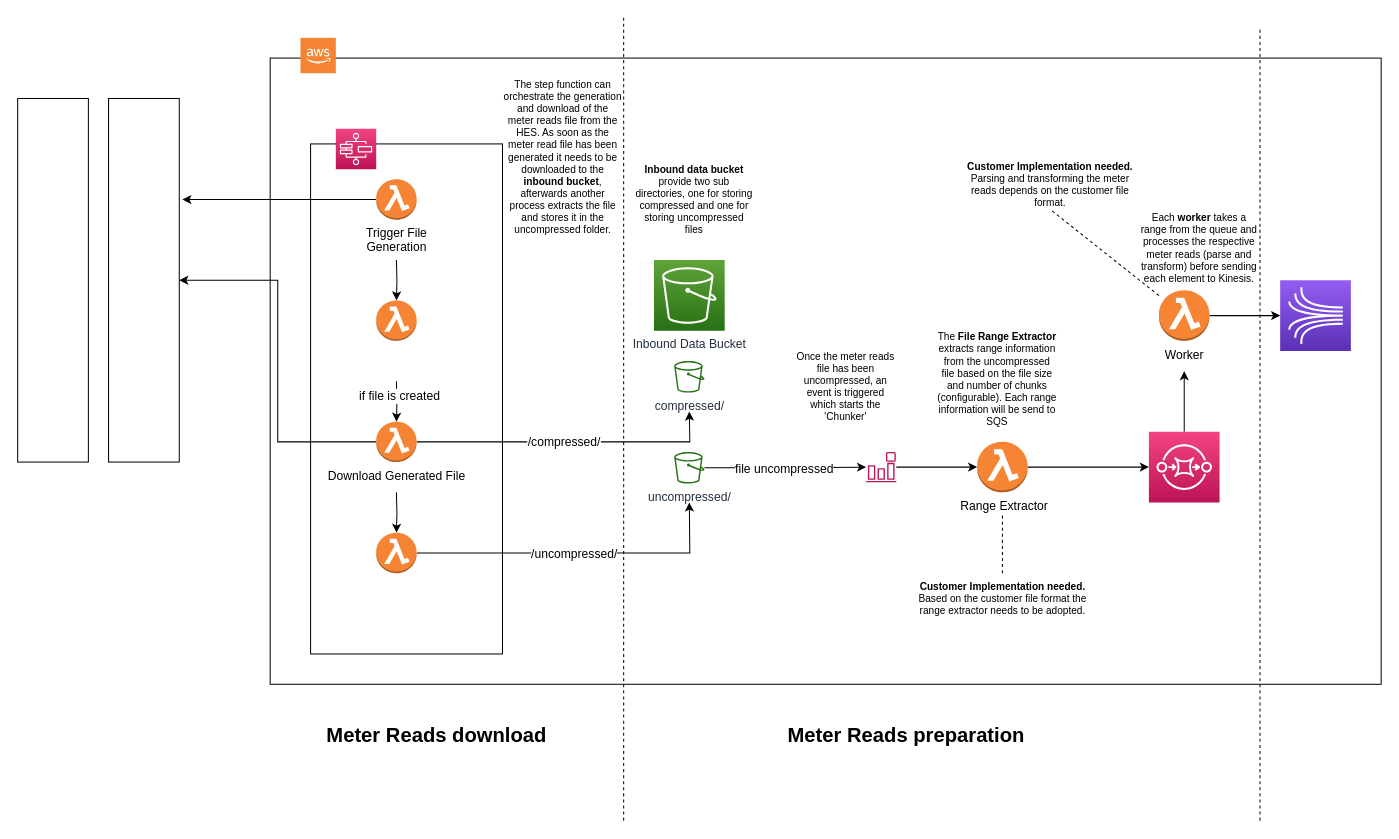
Image size: 1399x839. Some labels were removed from this diagram. Each missing label, with the centre of its shape:
"Check File Generation Status" goes at point (396, 320).
"HES" goes at point (143, 279).
"Meter Simulator" goes at point (52, 279).
"Uncompress file" goes at point (396, 552).
